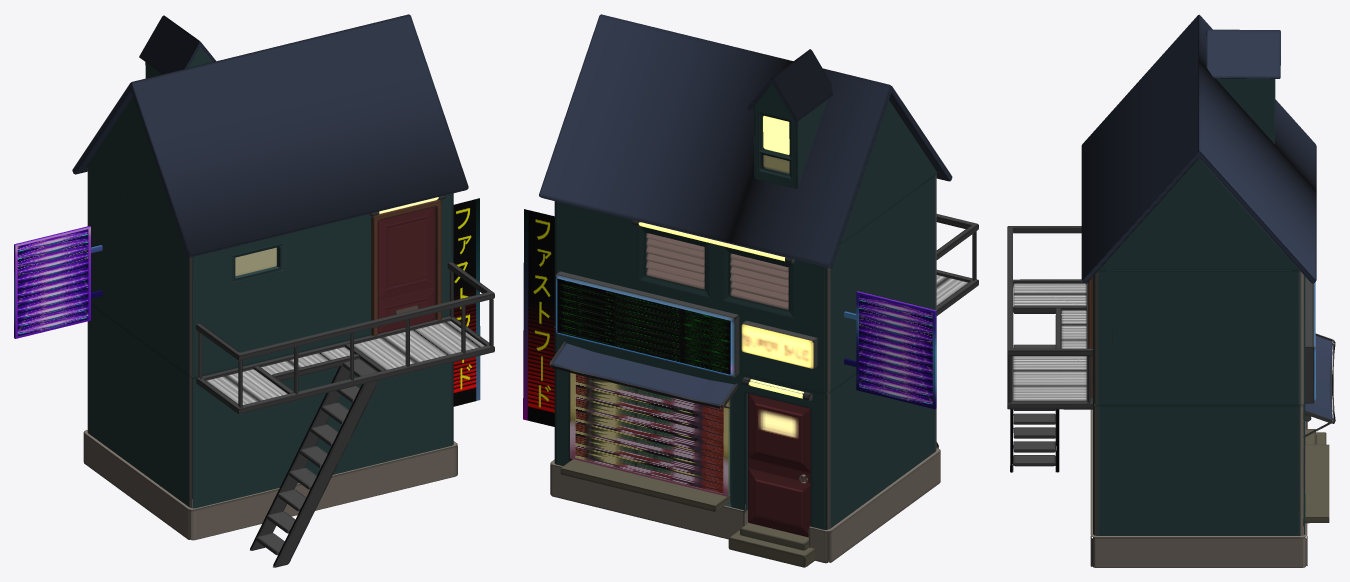
The model's file is FUT0310004.fbx.
3 renders of one model, left to right at view 1: azimuth 30°, elevation 25°; view 2: azimuth 150°, elevation 25°; view 3: azimuth 270°, elevation 25°, orthographic. The views are drawn at different scales.
Visible parts, largest first — view 1: smFUT0310004; view 2: smFUT0310004; view 3: smFUT0310004.
Boxes of the visible parts, box(x1,y1,x2,y2) form: smFUT0310004: box(14, 14, 494, 567); smFUT0310004: box(523, 14, 978, 567); smFUT0310004: box(1007, 14, 1335, 567).
Size of the model in its own units: 613 by 682 by 453.
5 materials, 5 textured.
